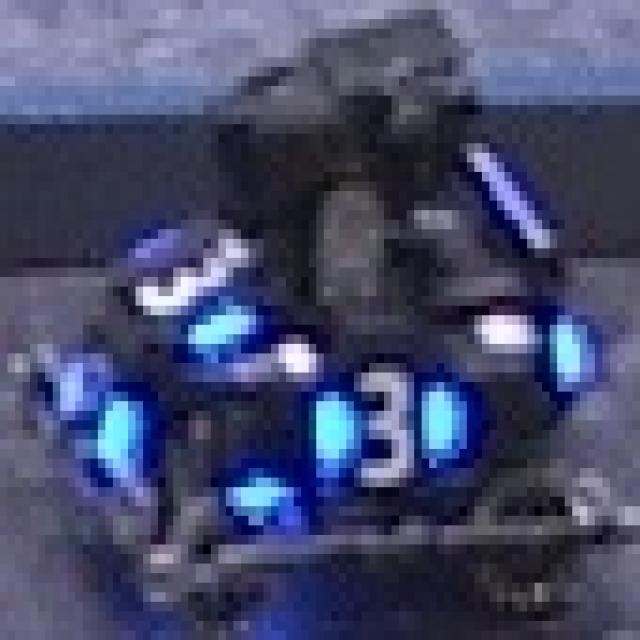B3: (120, 210, 264, 354), (309, 363, 459, 478)
